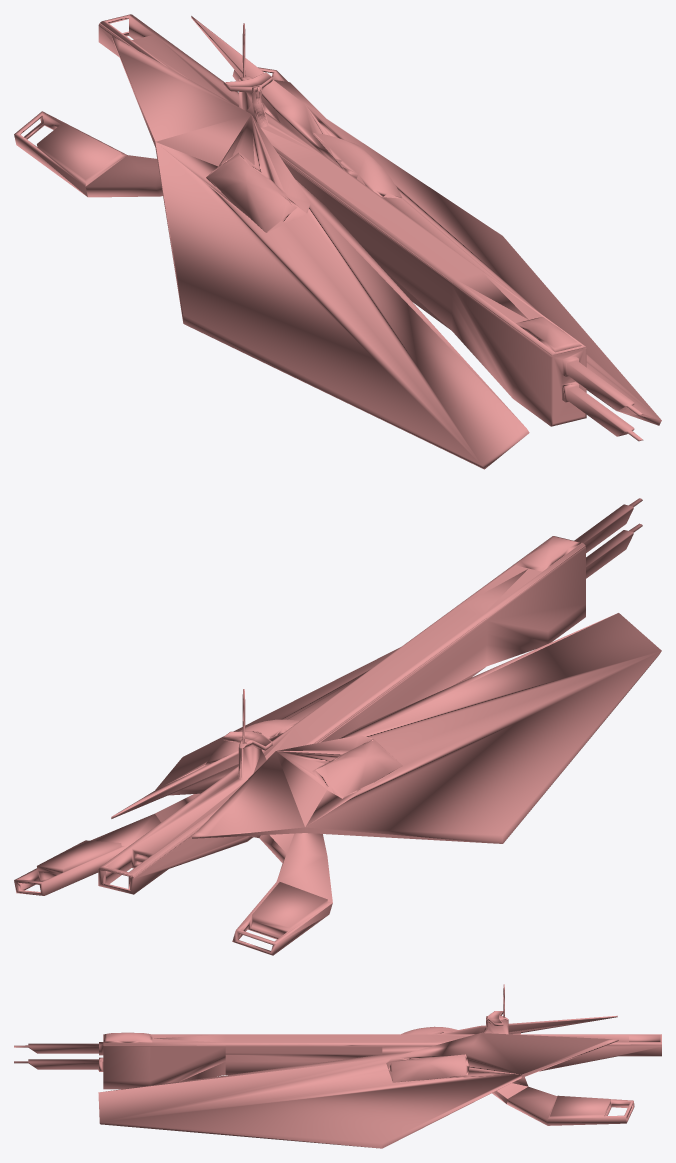
File: BigShip.obj
The picture shows the model from 3 angles, top to bottom: view 1: azimuth 30°, elevation 25°; view 2: azimuth 150°, elevation 25°; view 3: azimuth 270°, elevation 25°; orthographic projection. The views are drawn at different scales.
Parts seen in each view (by area): view 1: cruiser; view 2: cruiser; view 3: cruiser.
Boxes of the visible parts, left/top/right/bottom form: cruiser: left=14, top=14, right=661, bottom=469; cruiser: left=14, top=498, right=661, bottom=955; cruiser: left=14, top=984, right=661, bottom=1148.
Bounding box in the file's own units: 189390 × 106514 × 537816.
